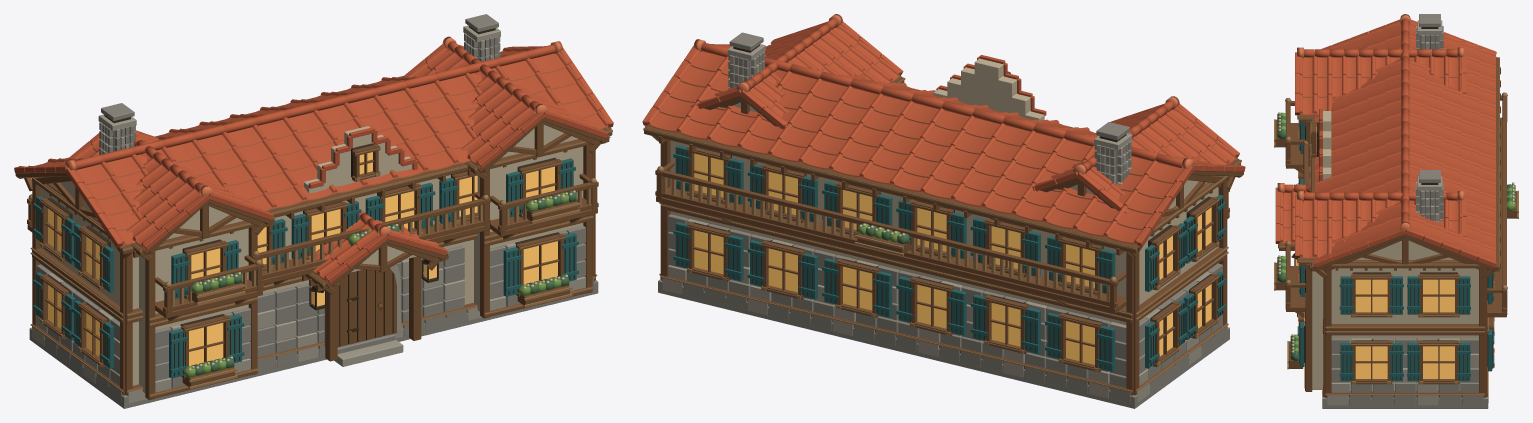
3 renders of one model, left to right at view 1: azimuth 30°, elevation 25°; view 2: azimuth 150°, elevation 25°; view 3: azimuth 270°, elevation 25°, orthographic. The views are drawn at different scales.
Visible parts, largest first — view 1: alpine_skyscraper_2_geometry, alpine_skyscraper_2_geometry ceramic; view 2: alpine_skyscraper_2_geometry, alpine_skyscraper_2_geometry ceramic; view 3: alpine_skyscraper_2_geometry ceramic, alpine_skyscraper_2_geometry.
Boxes of the visible parts, <box> form: alpine_skyscraper_2_geometry: <box>15,14,612,408</box>; alpine_skyscraper_2_geometry ceramic: <box>14,36,613,283</box>; alpine_skyscraper_2_geometry: <box>643,27,1243,408</box>; alpine_skyscraper_2_geometry ceramic: <box>642,14,1245,246</box>; alpine_skyscraper_2_geometry ceramic: <box>1275,14,1496,267</box>; alpine_skyscraper_2_geometry: <box>1274,14,1518,408</box>.
Size of the model in its own units: 2.09 by 0.9706 by 1.02.
